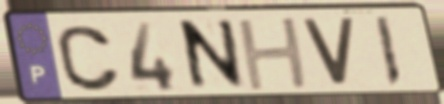4: (125, 19, 182, 94)
C: (53, 23, 124, 93)
H: (234, 14, 314, 94)
I: (372, 14, 405, 90)
N: (180, 16, 248, 96)
V: (297, 16, 358, 90)
